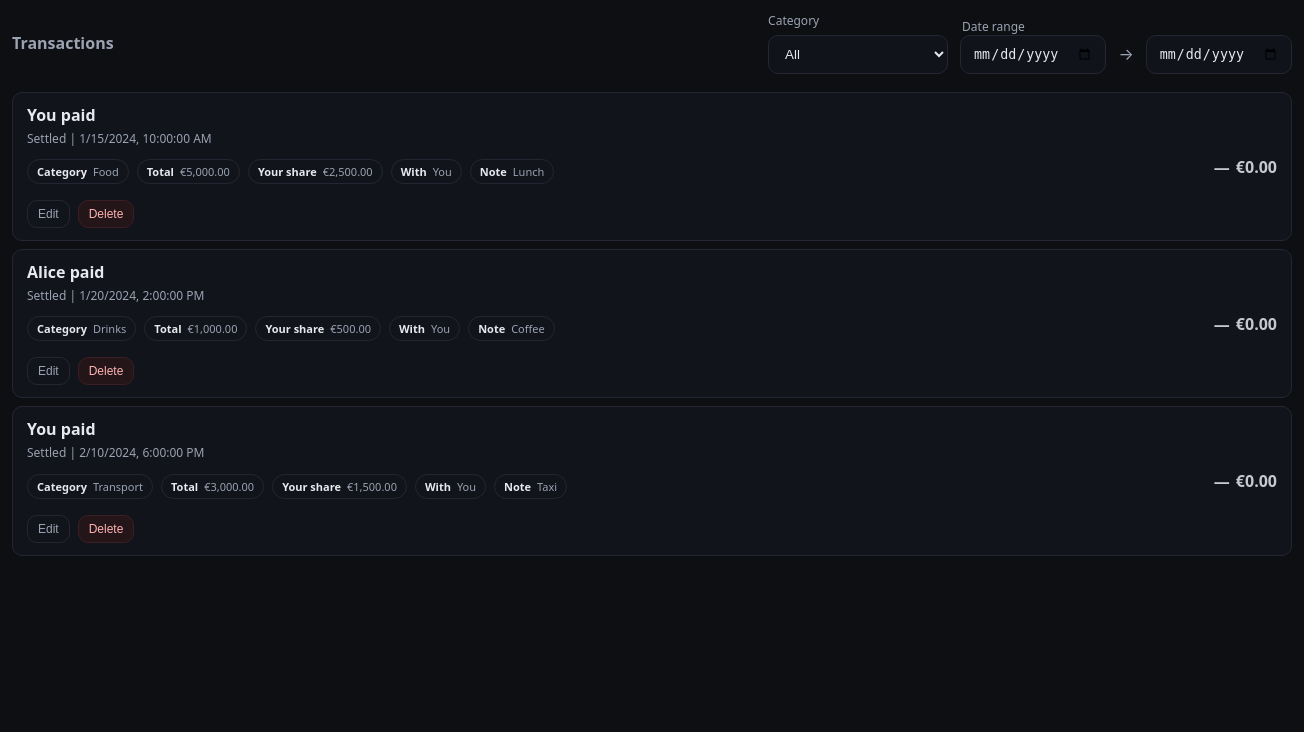
Test: TransactionList › Filtering › clears all filters when 'Clear filters' button is clicked
# Apply category filter
Select "Food" in the dropdown labelled "Category": [858, 54] box [768,35,948,74]
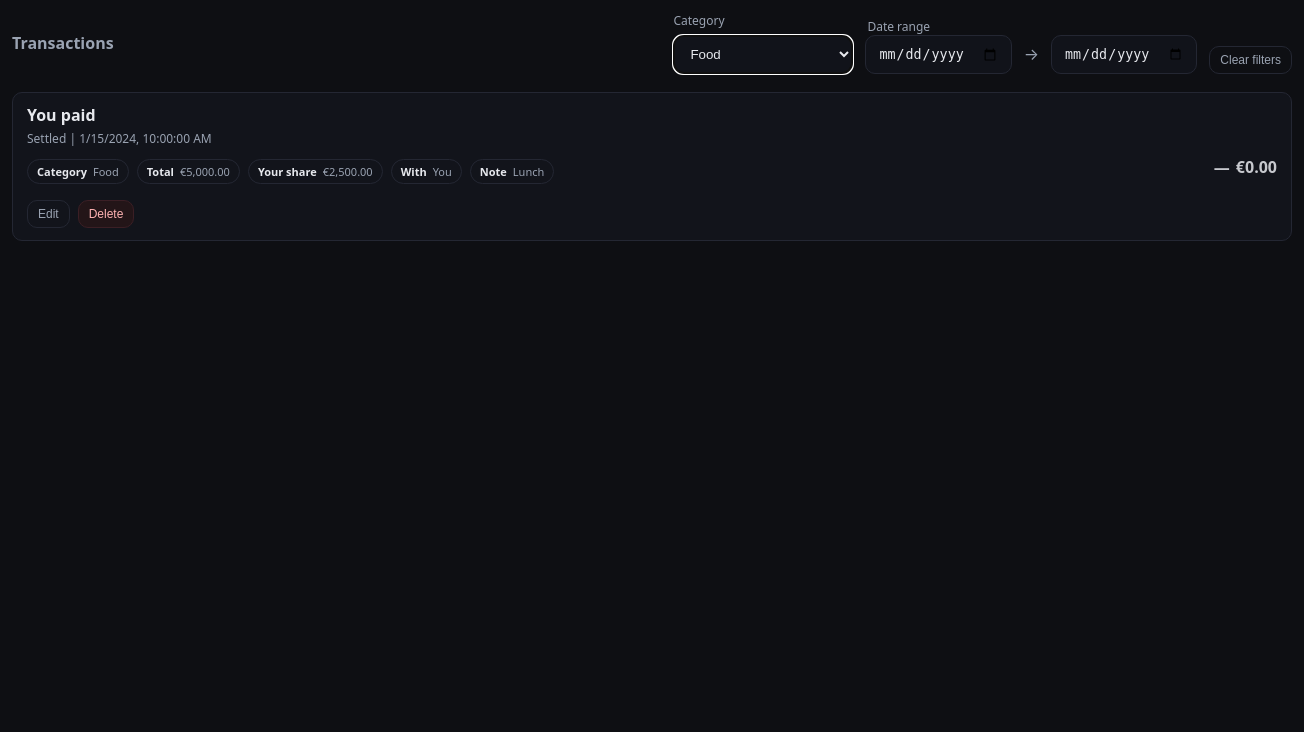
Expected: the element with class "list" is shown, [12,92,1292,241]
Now the text "Drinks" is gone
# Clear filters
Click the button "Clear filters": [1251, 60] box [1209,46,1292,74]
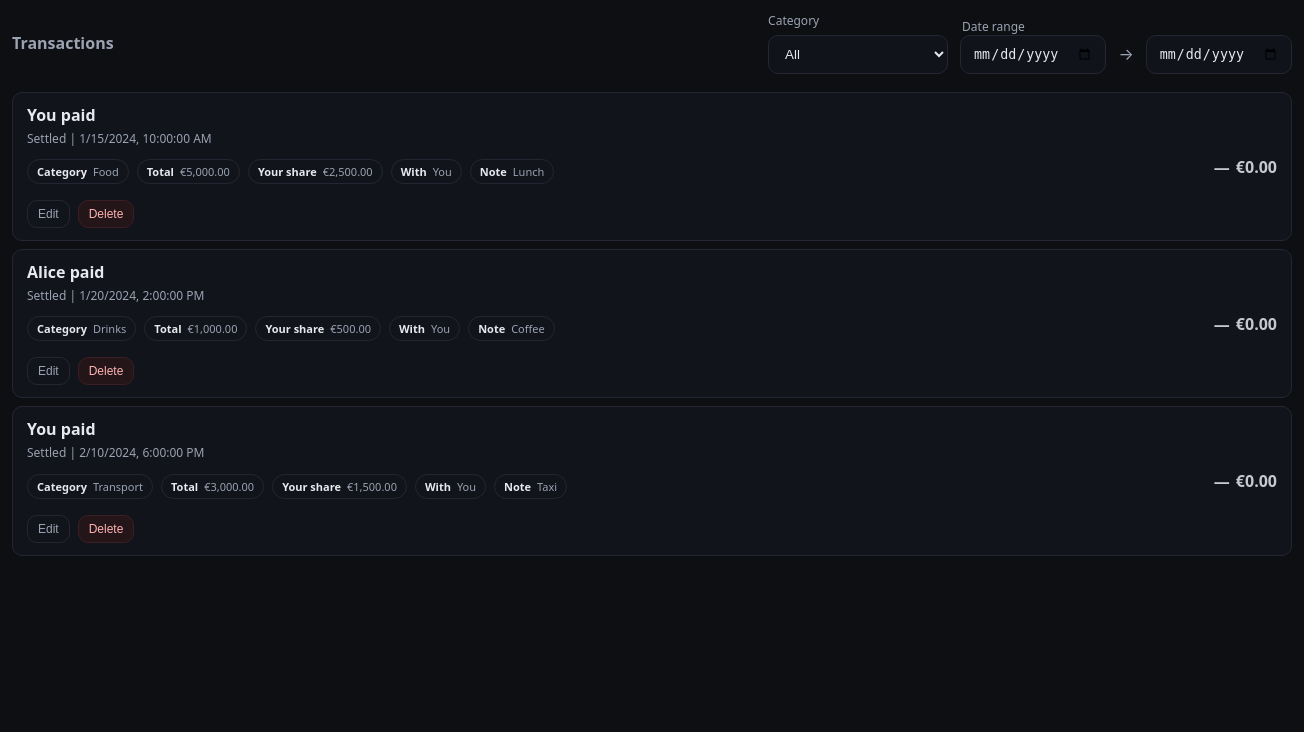
Now the text "Drinks" is shown, box [93,321,126,336]
Now the text "Transport" is shown, box [93,479,143,494]
Now the button "Clear filters" is gone
